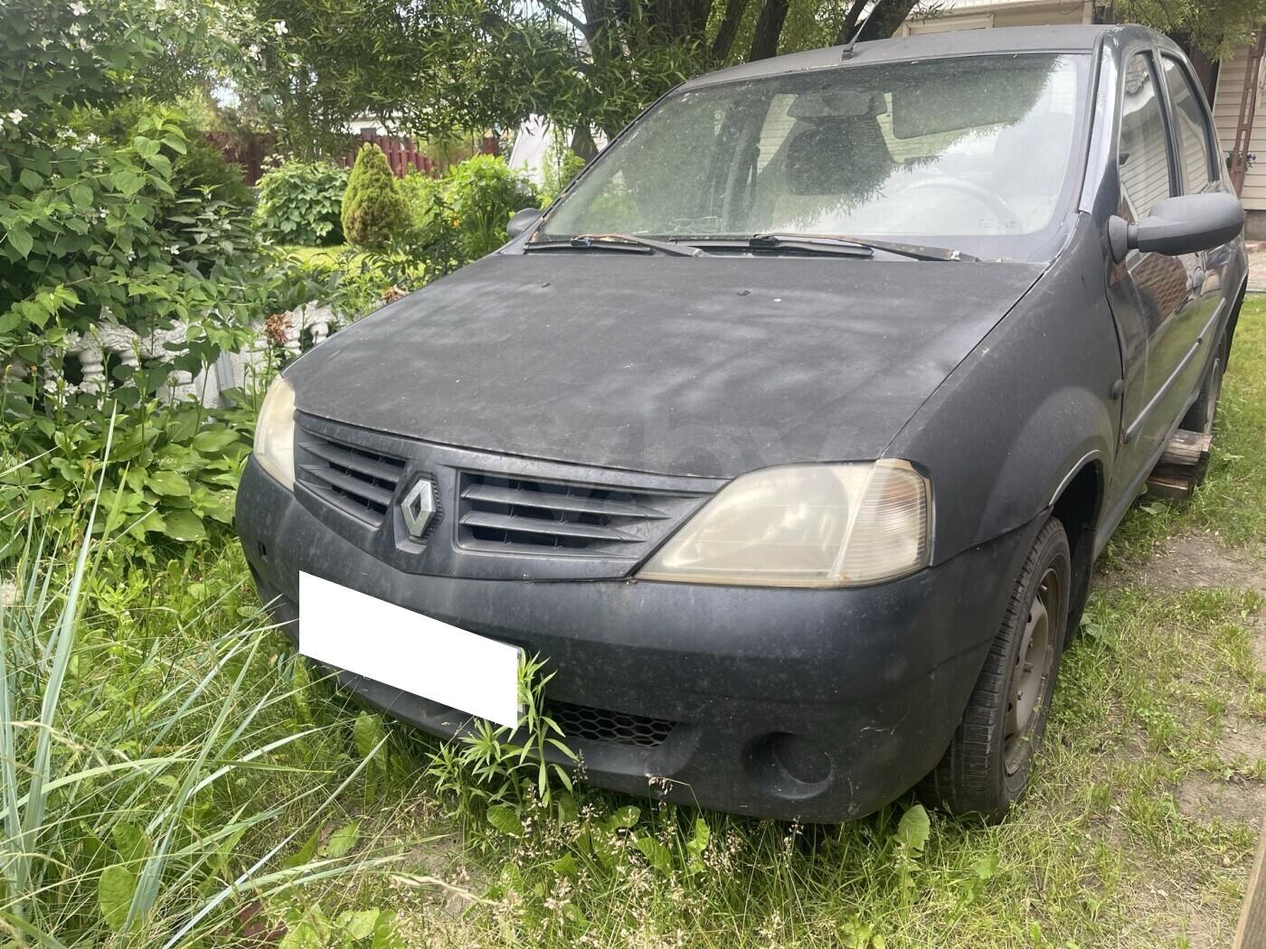Logan_2004-2009: (231, 23, 1261, 821)
